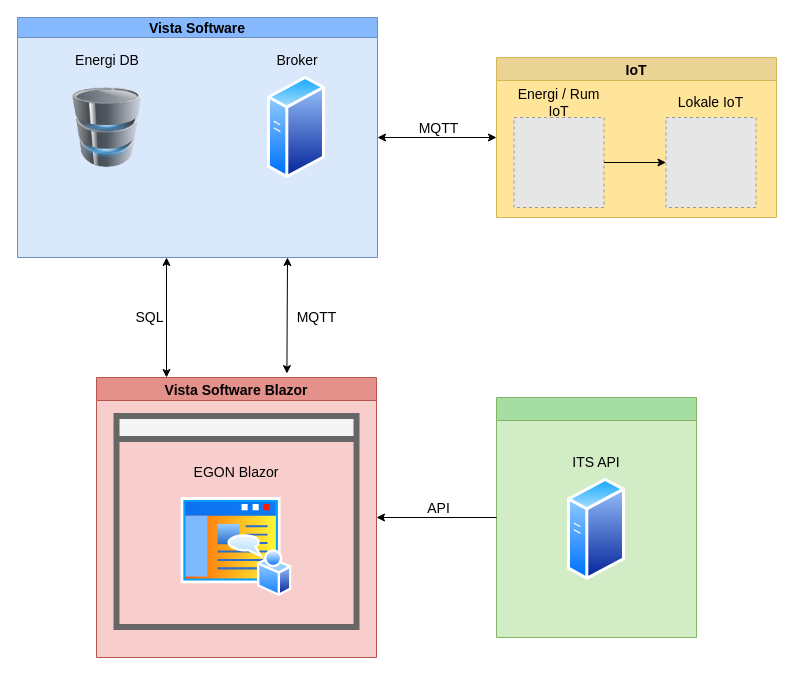
This 794x675 diagram has some shape labels left out. Grey dashed boxes stand in for pictures. The box of each missing label's shape, as (x1, y1, x2, y2) in pixels:
Extern netværk: (113, 412, 359, 630)
WWW: (496, 396, 696, 638)
